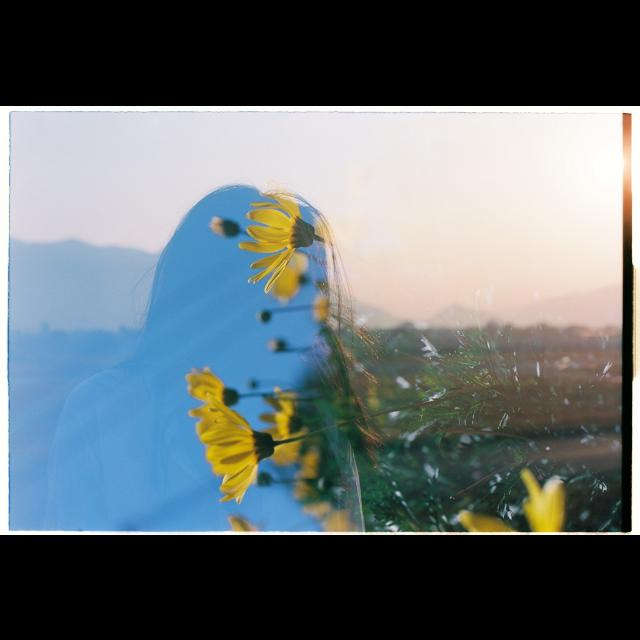Flower: (230, 178, 330, 300), (206, 390, 276, 504), (454, 464, 560, 534), (190, 367, 236, 438)
